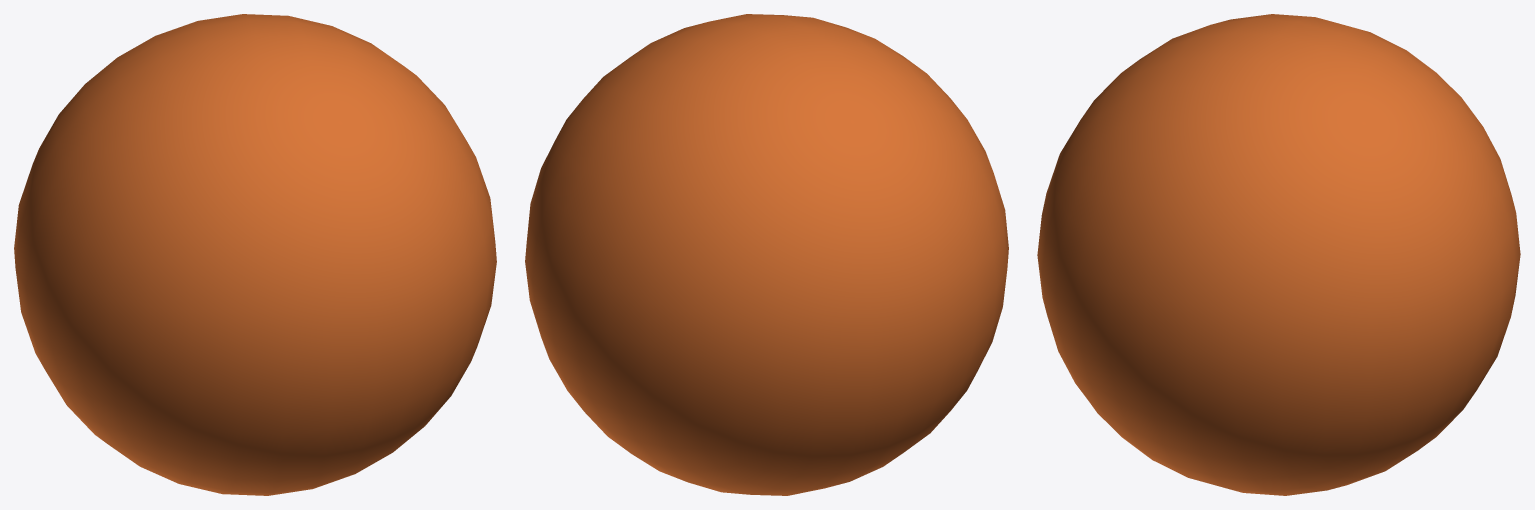
The model's file is yellow.fbx.
3 renders of one model, left to right at view 1: azimuth 30°, elevation 25°; view 2: azimuth 150°, elevation 25°; view 3: azimuth 270°, elevation 25°, orthographic.
Visible parts, largest first — view 1: polySurface537; view 2: polySurface537; view 3: polySurface537.
Part boxes in pixels (x1,y1,x2,y2): polySurface537: (14,14,496,495); polySurface537: (525,14,1008,495); polySurface537: (1037,14,1520,495).
Bounding box in the file's own units: 67.31 × 67.31 × 67.31.
